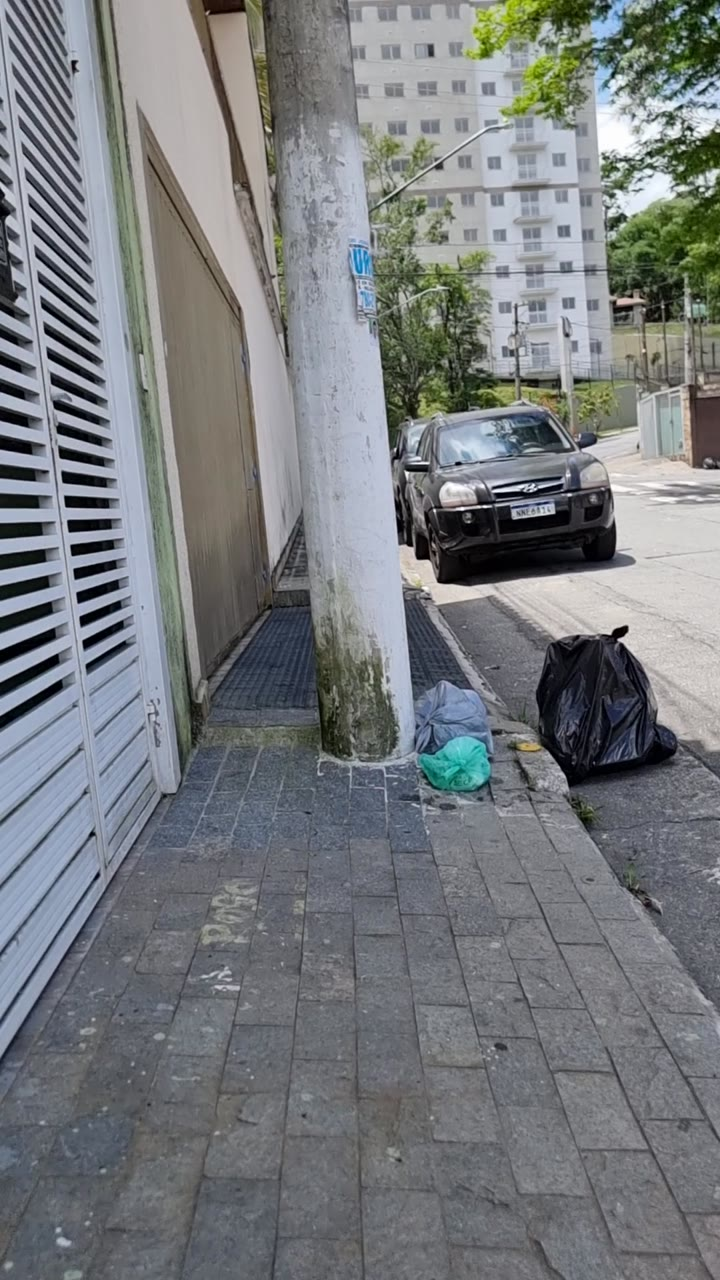obstaculo: (288, 0, 432, 768), (536, 627, 676, 784), (410, 666, 490, 768)
